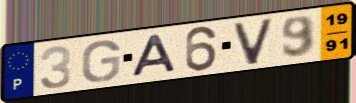3: (39, 44, 74, 90)
6: (184, 24, 218, 73)
9: (280, 14, 317, 60)
A: (130, 32, 180, 79)
G: (80, 38, 123, 84)
V: (231, 16, 276, 67)
